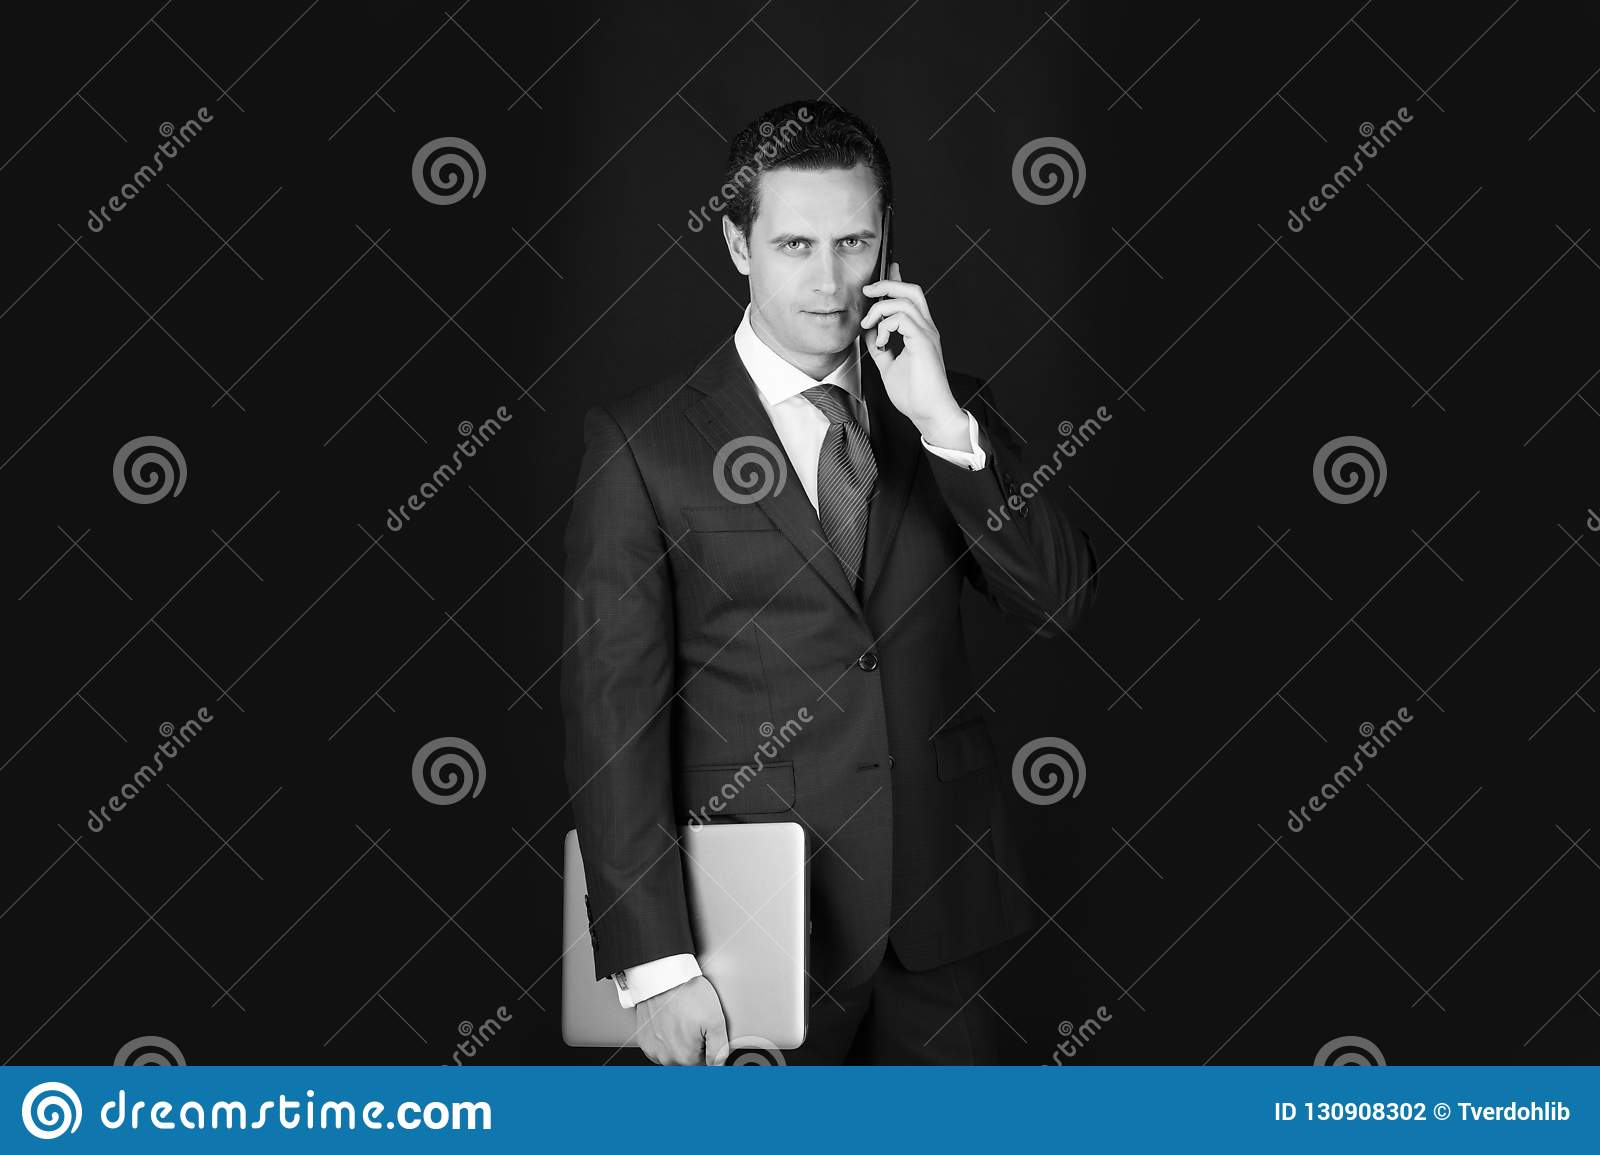phone: (875, 204, 901, 354)
talk: (771, 202, 947, 423)
